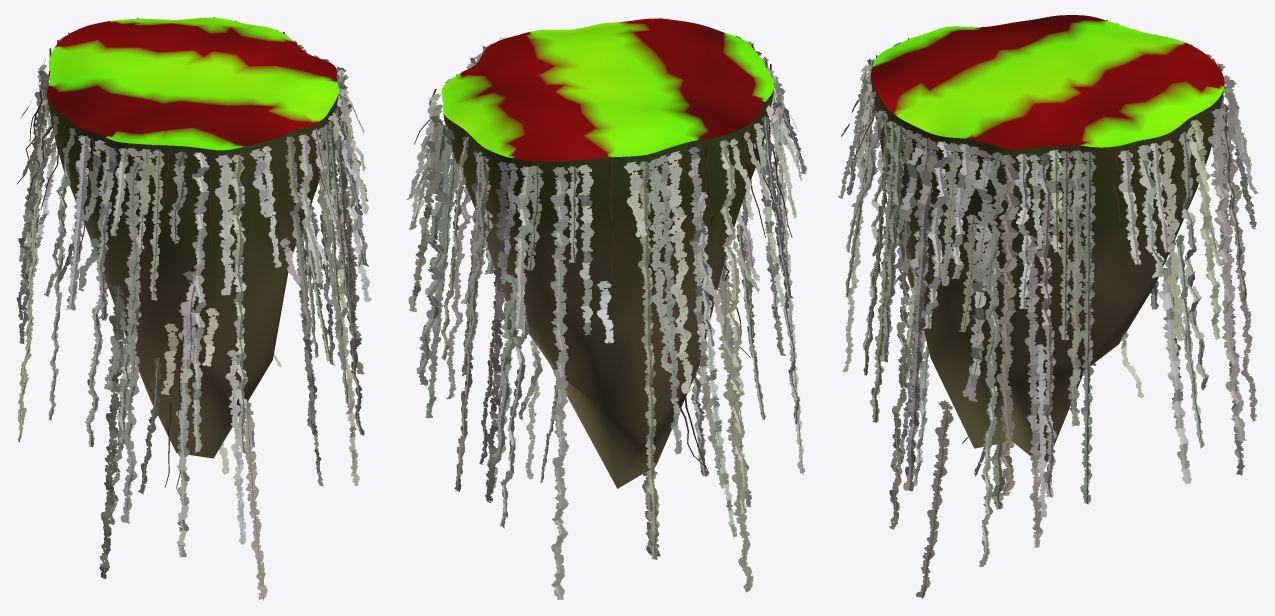
The model's file is SM_H09_Floater04.fbx.
The picture shows the model from 3 angles, left to right: view 1: azimuth 30°, elevation 25°; view 2: azimuth 150°, elevation 25°; view 3: azimuth 270°, elevation 25°; orthographic projection. The views are drawn at different scales.
Visible parts, largest first — view 1: SM_H09_Floater04, SM_H09_Floater04_Ivy; view 2: SM_H09_Floater04, SM_H09_Floater04_Ivy; view 3: SM_H09_Floater04_Ivy, SM_H09_Floater04.
Boxes of the visible parts, <box> form: SM_H09_Floater04: <box>47,17,338,458</box>; SM_H09_Floater04_Ivy: <box>16,17,371,600</box>; SM_H09_Floater04: <box>441,18,774,488</box>; SM_H09_Floater04_Ivy: <box>406,18,806,599</box>; SM_H09_Floater04_Ivy: <box>838,20,1258,598</box>; SM_H09_Floater04: <box>871,15,1224,463</box>.
Size of the model in its own units: 25.01 by 37.21 by 27.49.
